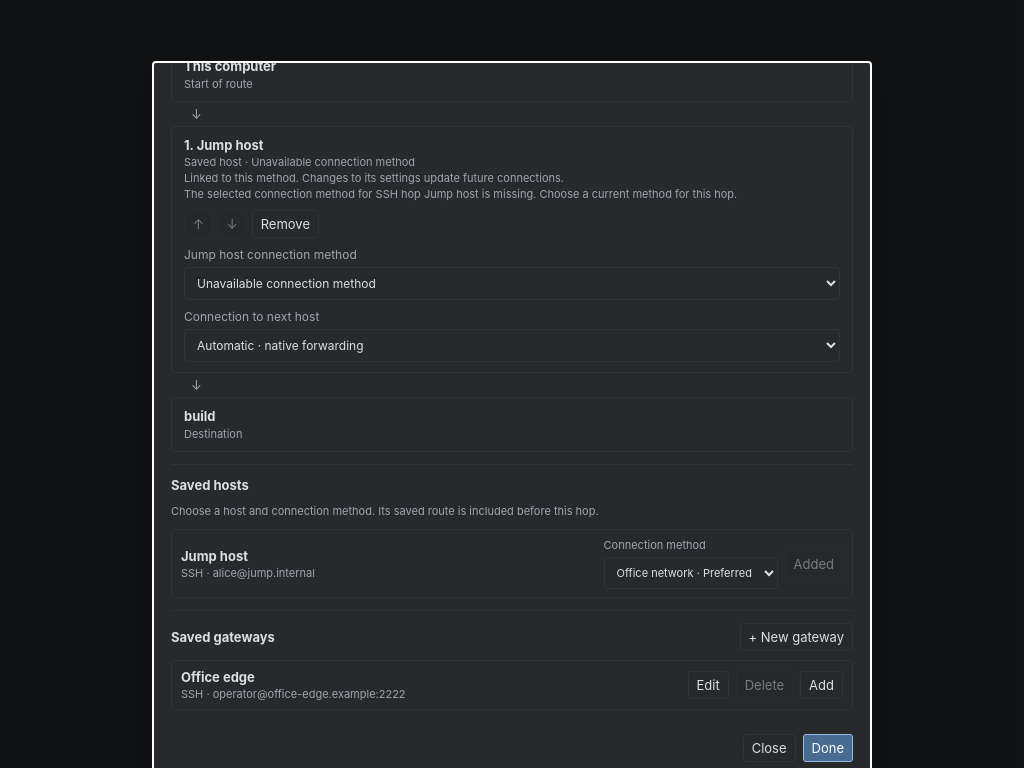
Test: GatewayRouteDialog › rejects a linked method removed from the saved host
(page scrolled)
Expected: the text "Saved host · Unavailable connection method" is shown, [184,155,415,169]
What coordinates should you click on to do the following:
click the button "Done"
I would click on:
 (828, 748)
Its box is [803,734,853,762].
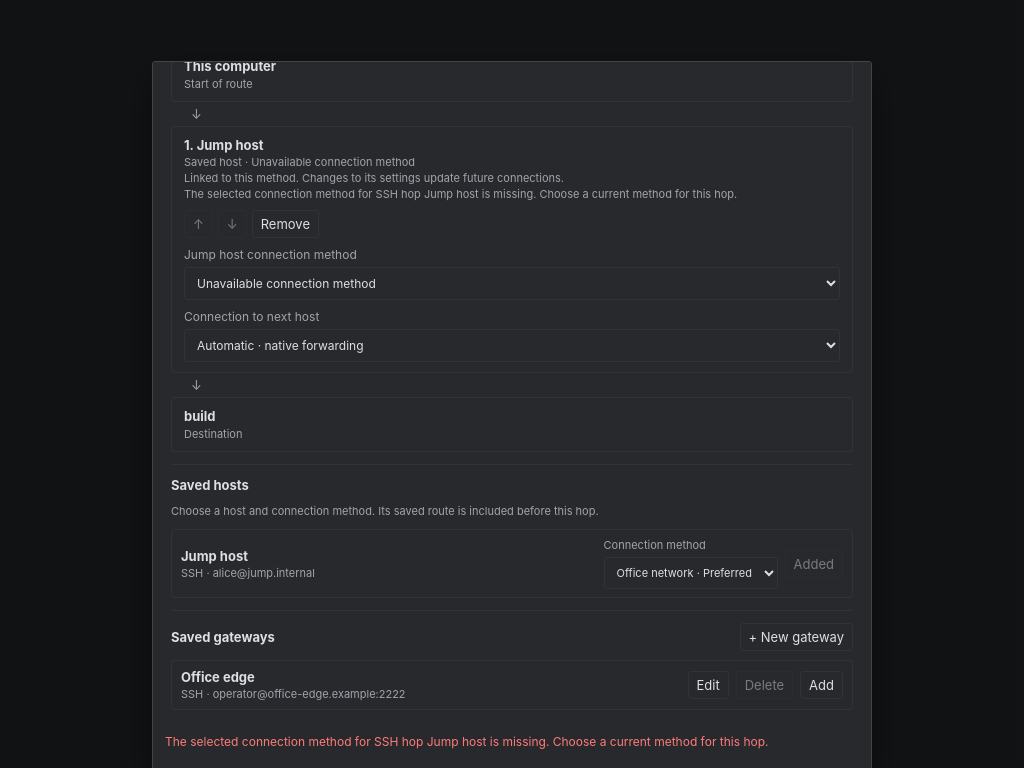
Result: the 2nd message shows "selected connection method" at [165,734,768,749]
